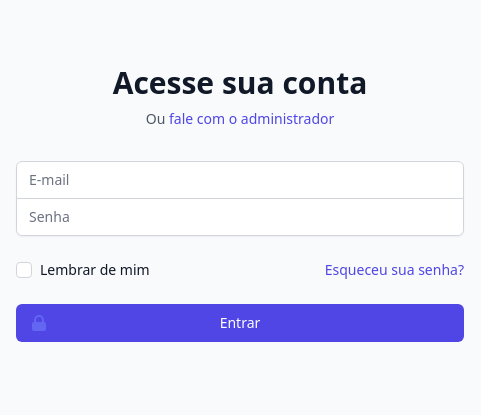
it: Login › shows error message when login fails
Type "wrong@example.com" into the field labelled "E-mail".
click(240, 180); type("wrong@example.com")  # box [16,160,464,198]
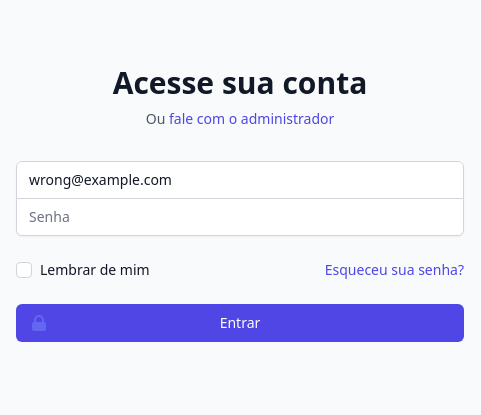
Type "wrongpassword" into the password field labelled "Senha".
click(240, 216); type("wrongpassword")  # box [16,198,464,236]
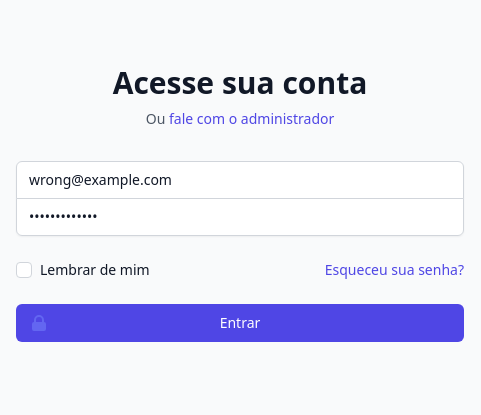
Click the button "Entrar".
click(240, 322)  # box [16,304,464,342]
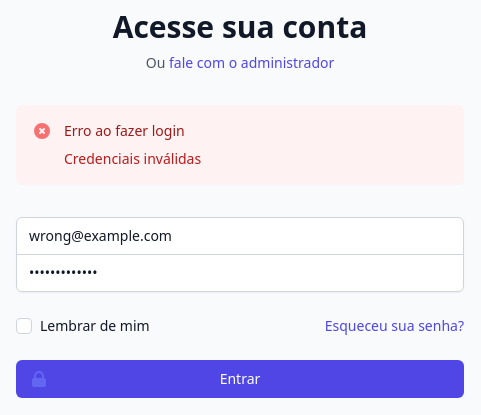
Result: the heading "Erro ao fazer login" is shown at [64,120,201,140]
